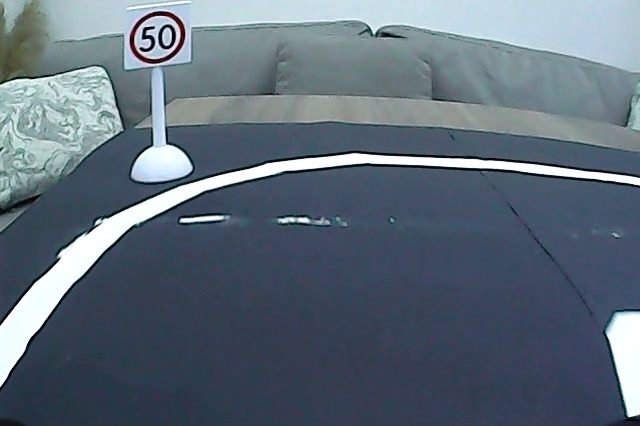speed limit 50: (127, 7, 189, 67)
